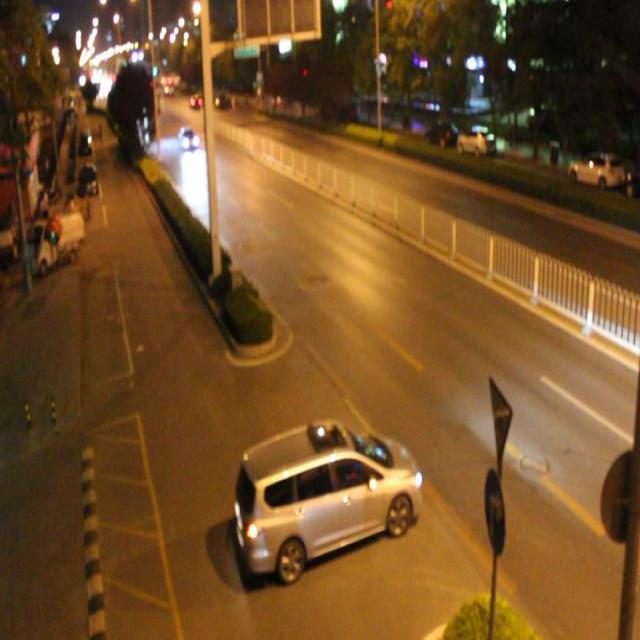car: (237, 421, 419, 572), (177, 129, 198, 151)
